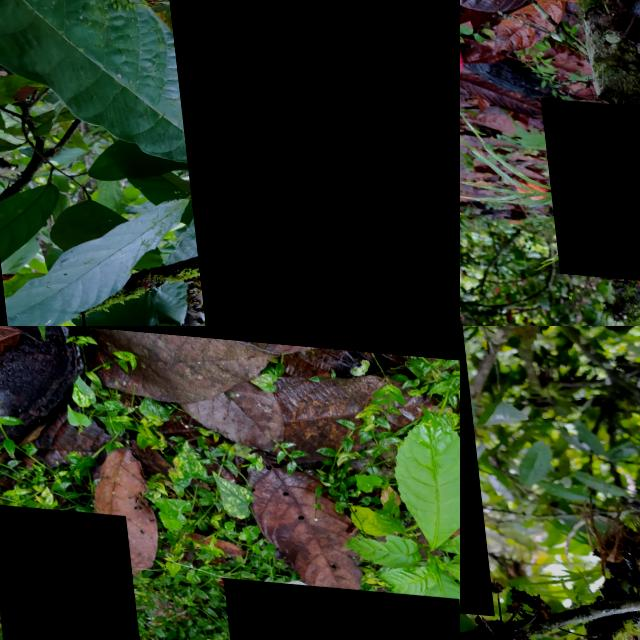Fitoftora: (159, 0, 460, 326), (0, 502, 141, 640)
Monilia: (535, 93, 640, 277)
